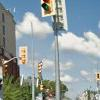Traffic light: (34, 0, 58, 26)
